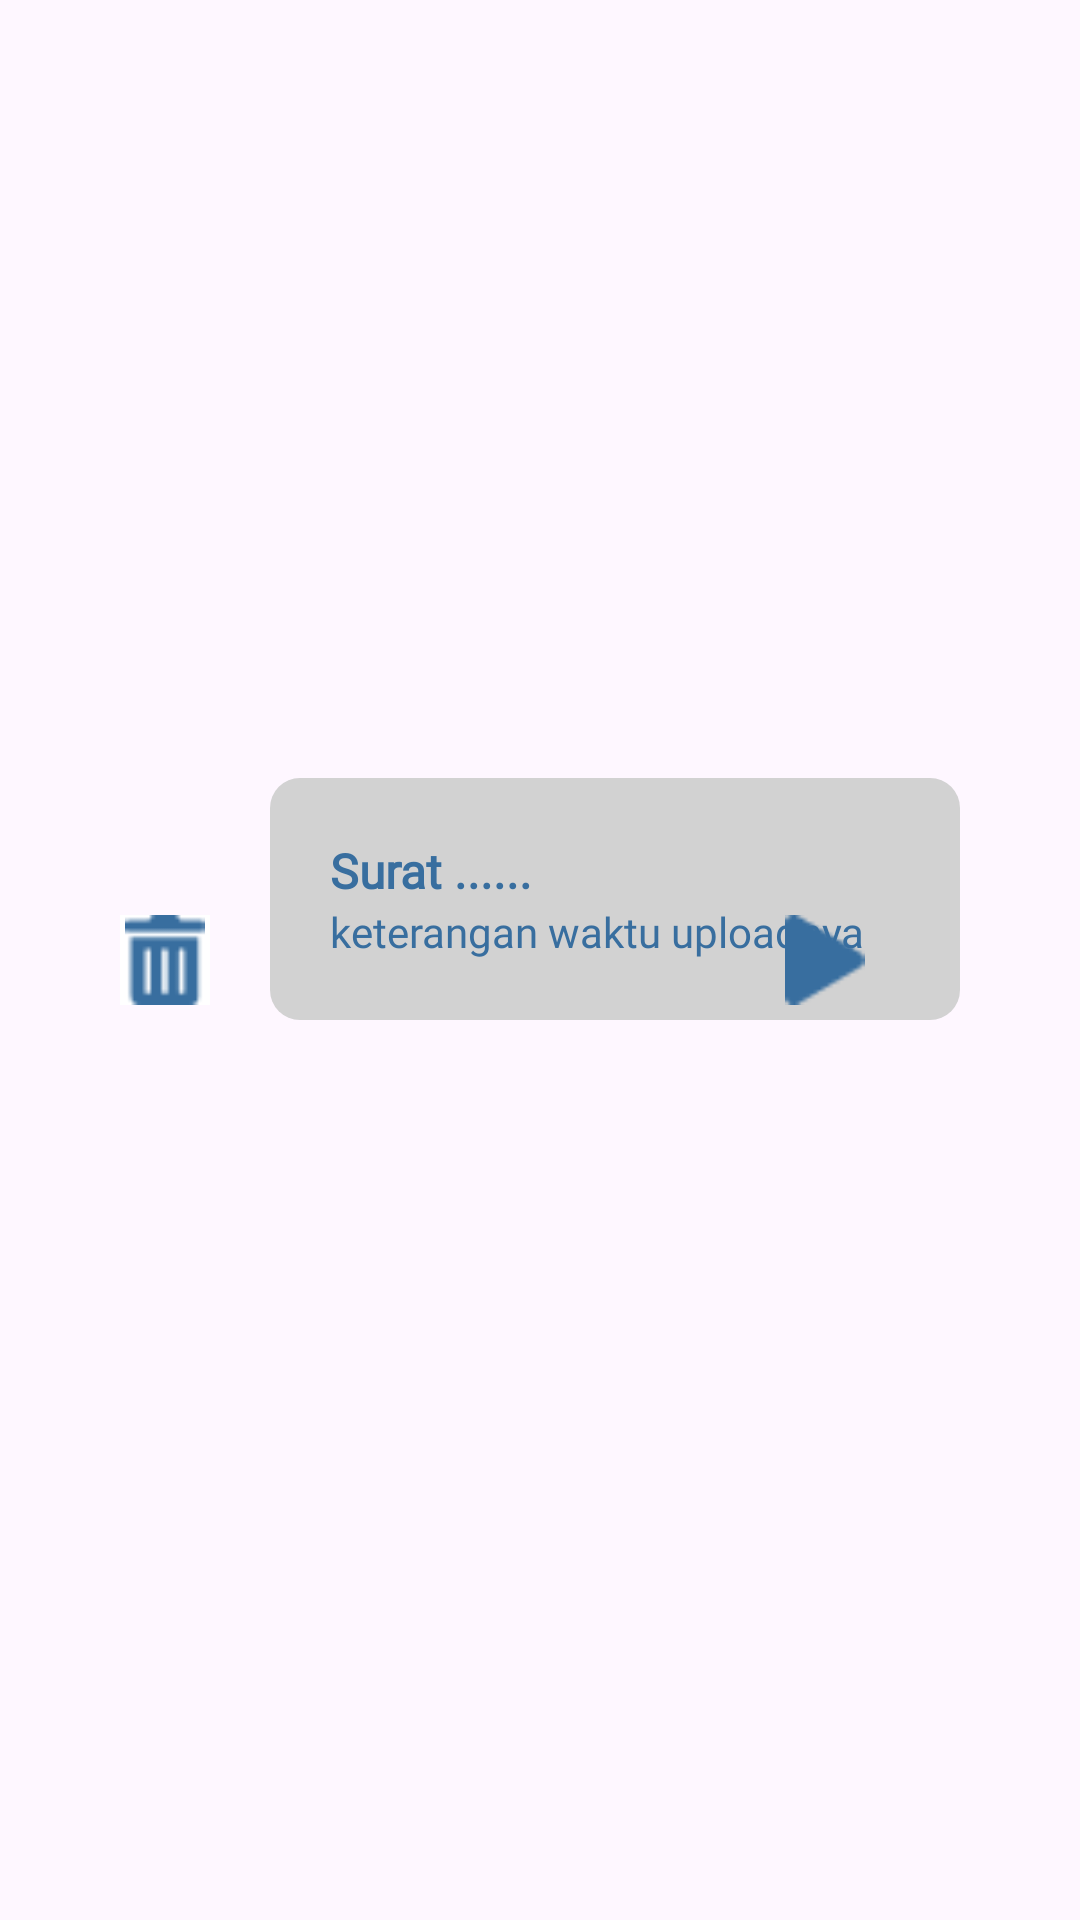

Icons on this 1080px x 1920px Android screen, each with the point to tap as [x,y]:
delete: [165,960]
play: [822,960]
